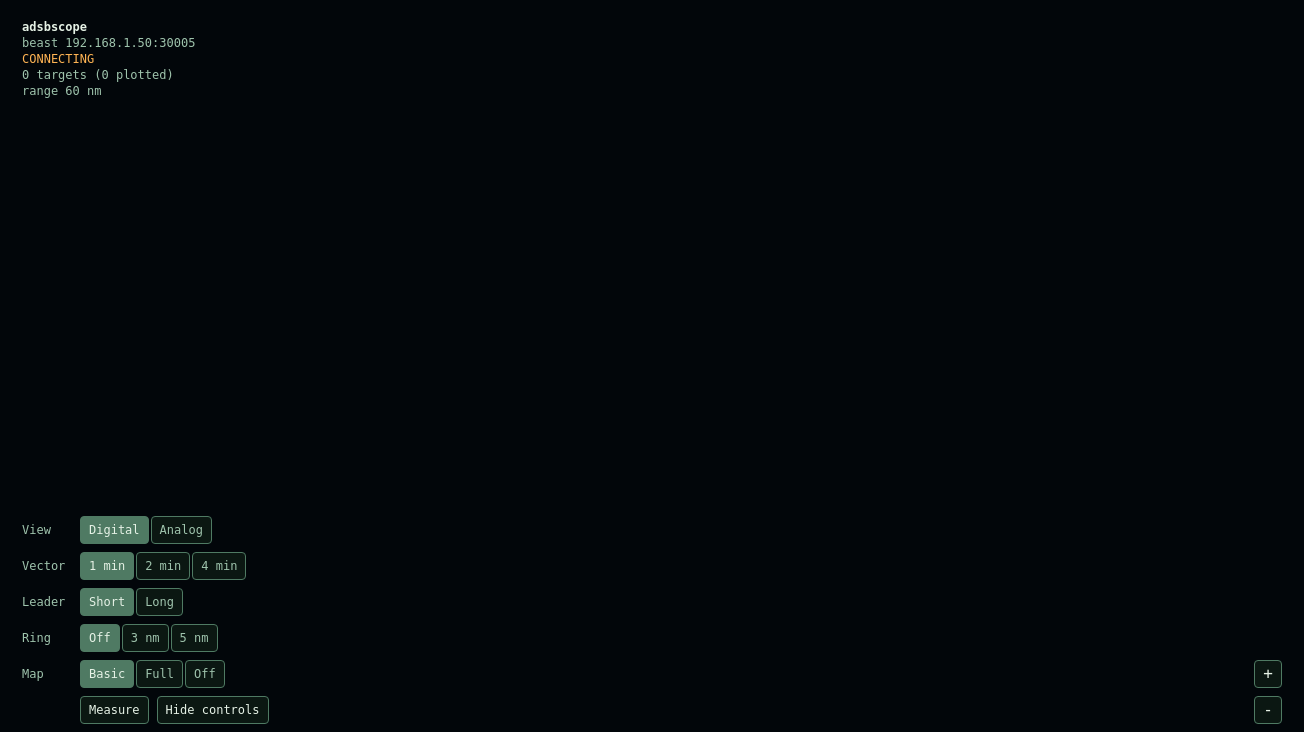
Test: ScopeView › range › steps from the on-screen buttons
This screenshot has width=1304, height=732.
Step 1. Click the button named "Zoom in" → [1268, 674], box [1254, 660, 1282, 688]
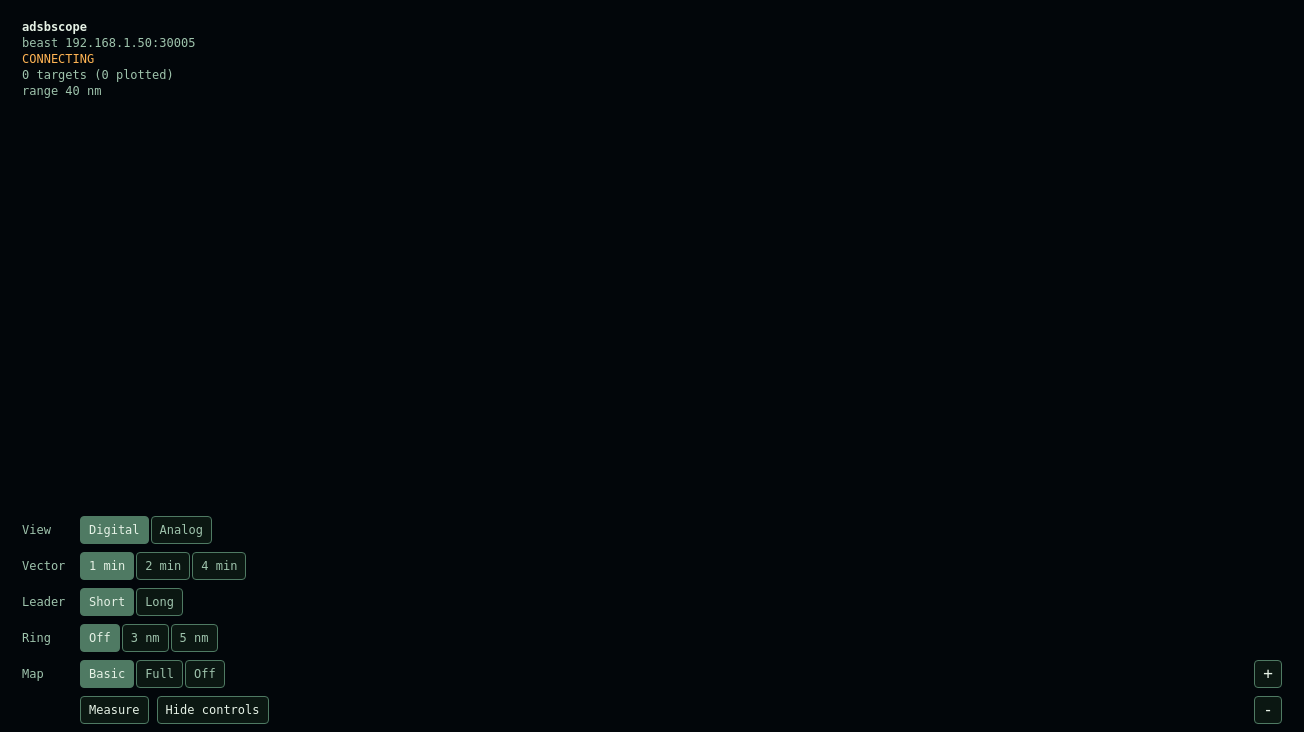
Expected: the message shows "range 40 nm", [22, 20, 195, 98]
Step 2. Click the button named "Zoom out" → [1268, 710], box [1254, 696, 1282, 724]
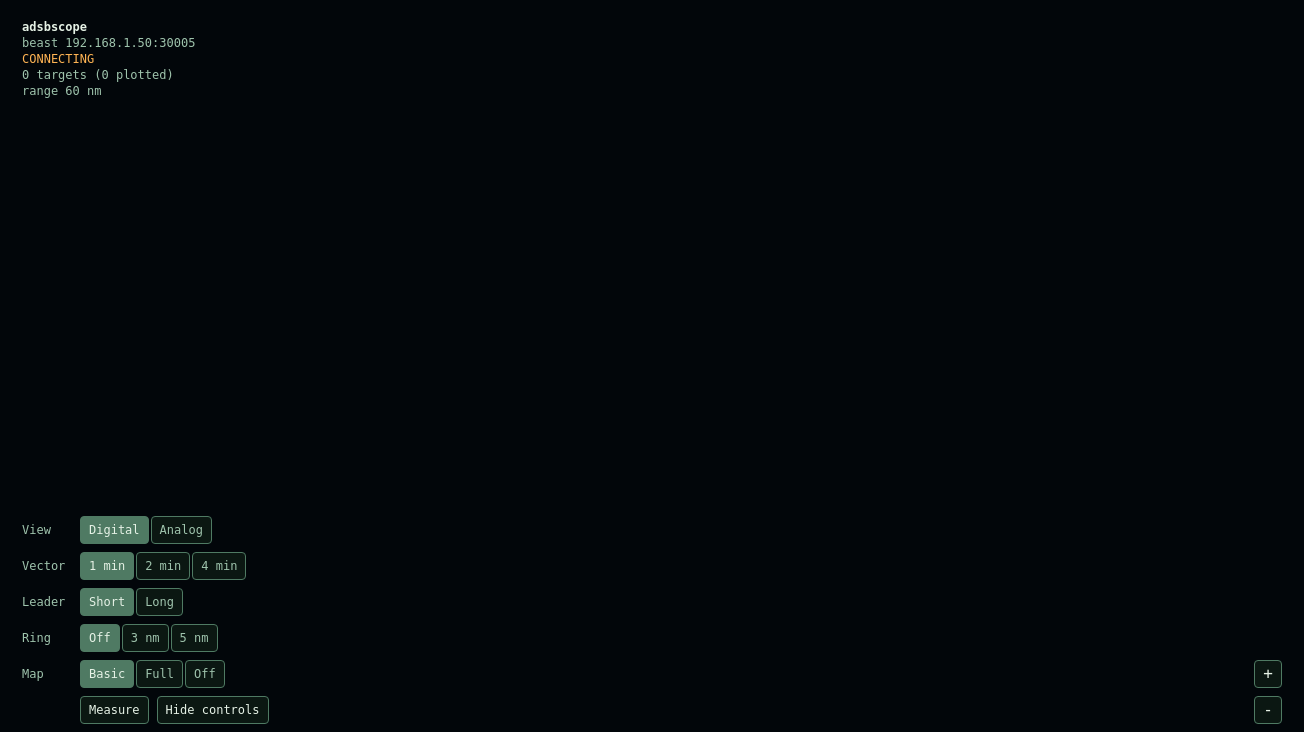
Step 3. Click the button named "Zoom out" → [1268, 710], box [1254, 696, 1282, 724]
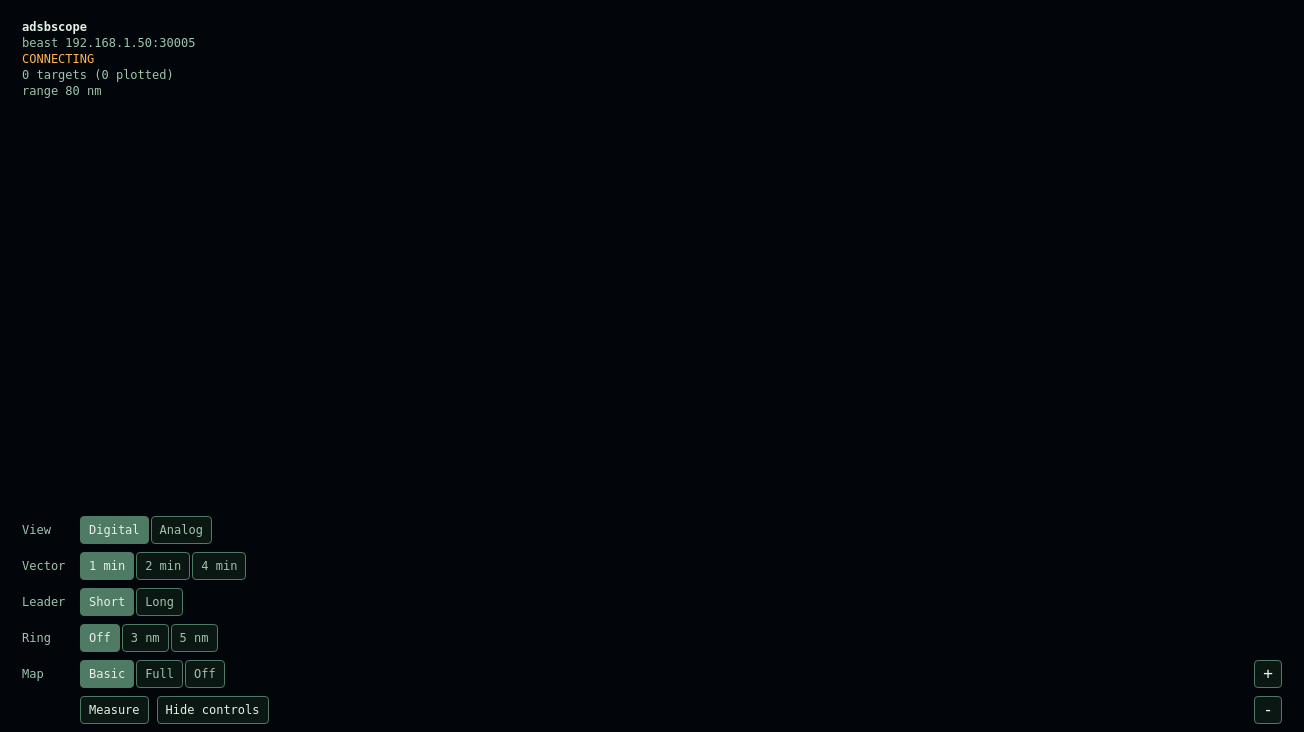
Expected: the message shows "range 80 nm", [22, 20, 195, 98]
